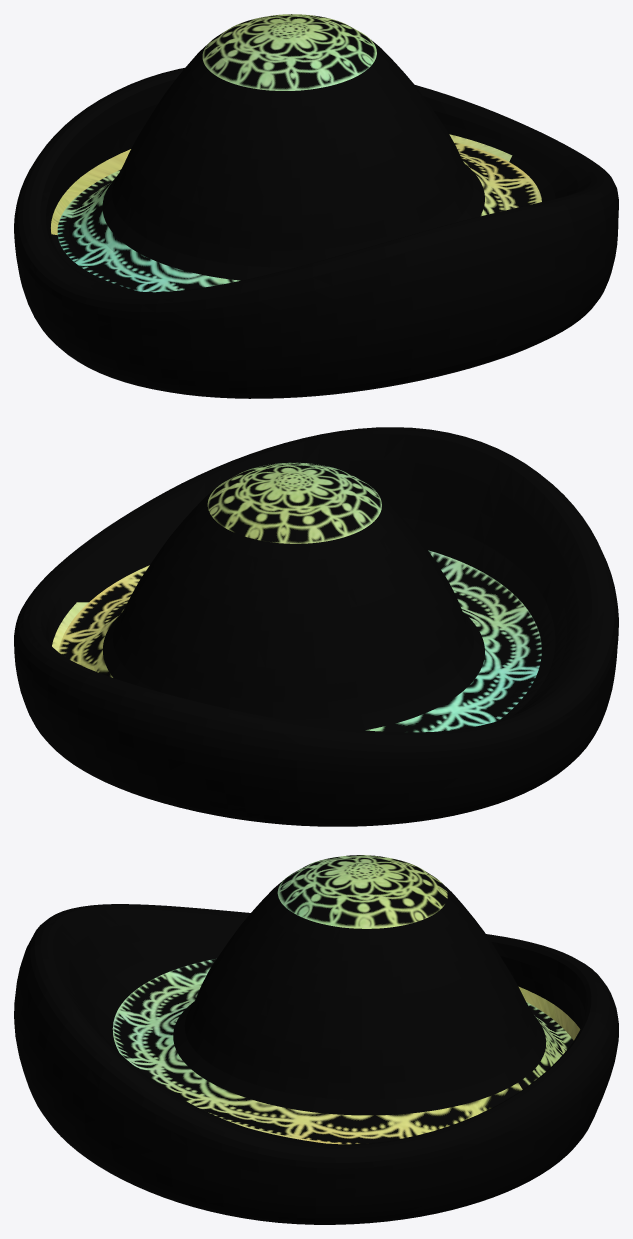
Rendered from Sombrero.obj.
The picture shows the model from 3 angles, top to bottom: view 1: azimuth 30°, elevation 25°; view 2: azimuth 150°, elevation 25°; view 3: azimuth 270°, elevation 25°; orthographic projection. The views are drawn at different scales.
Visible parts, largest first — view 1: Object.1; view 2: Object.1; view 3: Object.1.
Part boxes in pixels (box(x1,y1,x2,y2)): Object.1: box(14, 14, 618, 398); Object.1: box(14, 427, 618, 826); Object.1: box(14, 855, 618, 1224).
Size of the model in its own units: 18.68 by 8.67 by 19.2.
